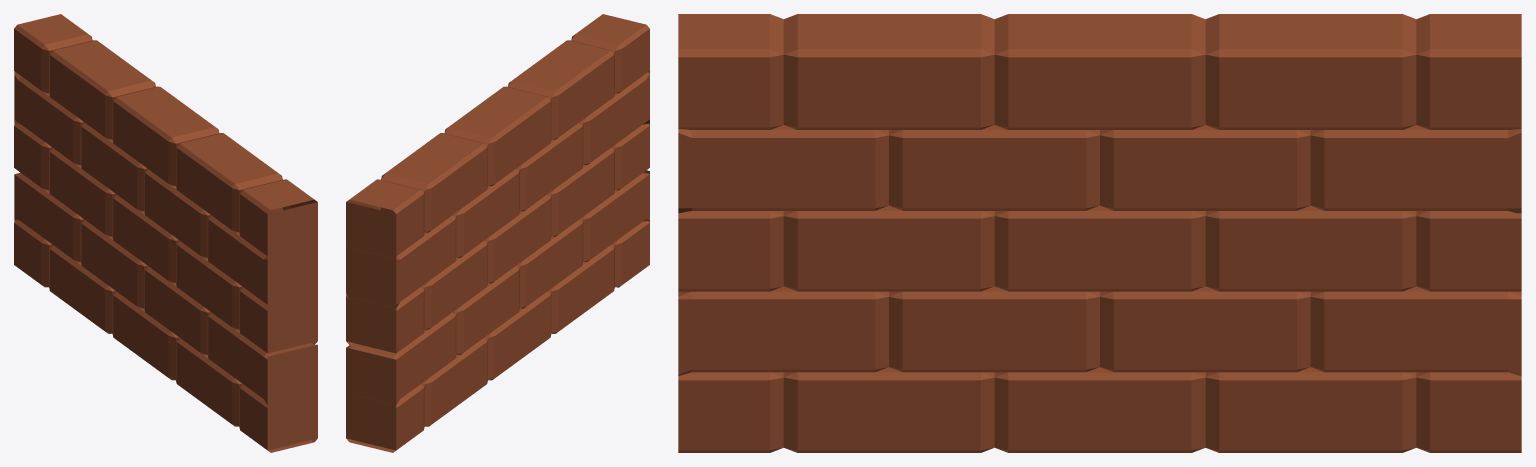
The model's file is wall.fbx.
3 renders of one model, left to right at view 1: azimuth 30°, elevation 25°; view 2: azimuth 150°, elevation 25°; view 3: azimuth 270°, elevation 25°, orthographic. The views are drawn at different scales.
Visible parts, largest first — view 1: Cube; view 2: Cube; view 3: Cube.
Part boxes in pixels (box(x1,y1,x2,y2)): Cube: box(14, 14, 317, 452); Cube: box(346, 14, 649, 452); Cube: box(678, 14, 1521, 452).
Bounding box in the file's own units: 63.09 × 292 × 553.
